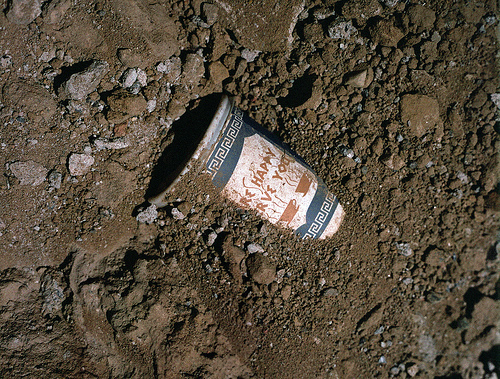litter: (150, 95, 345, 238)
